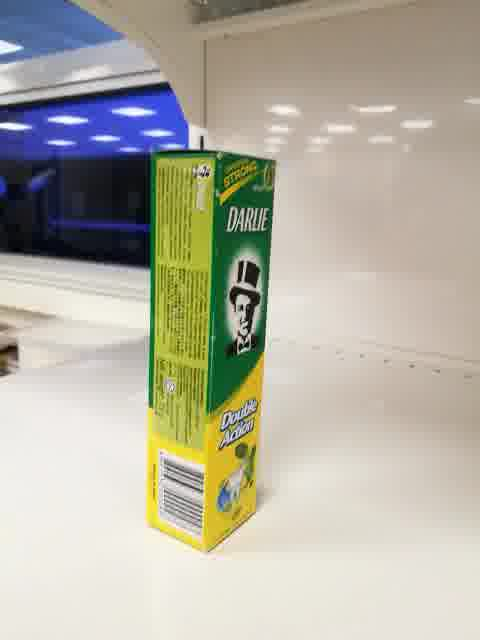toothpaste: (147, 149, 276, 552)
